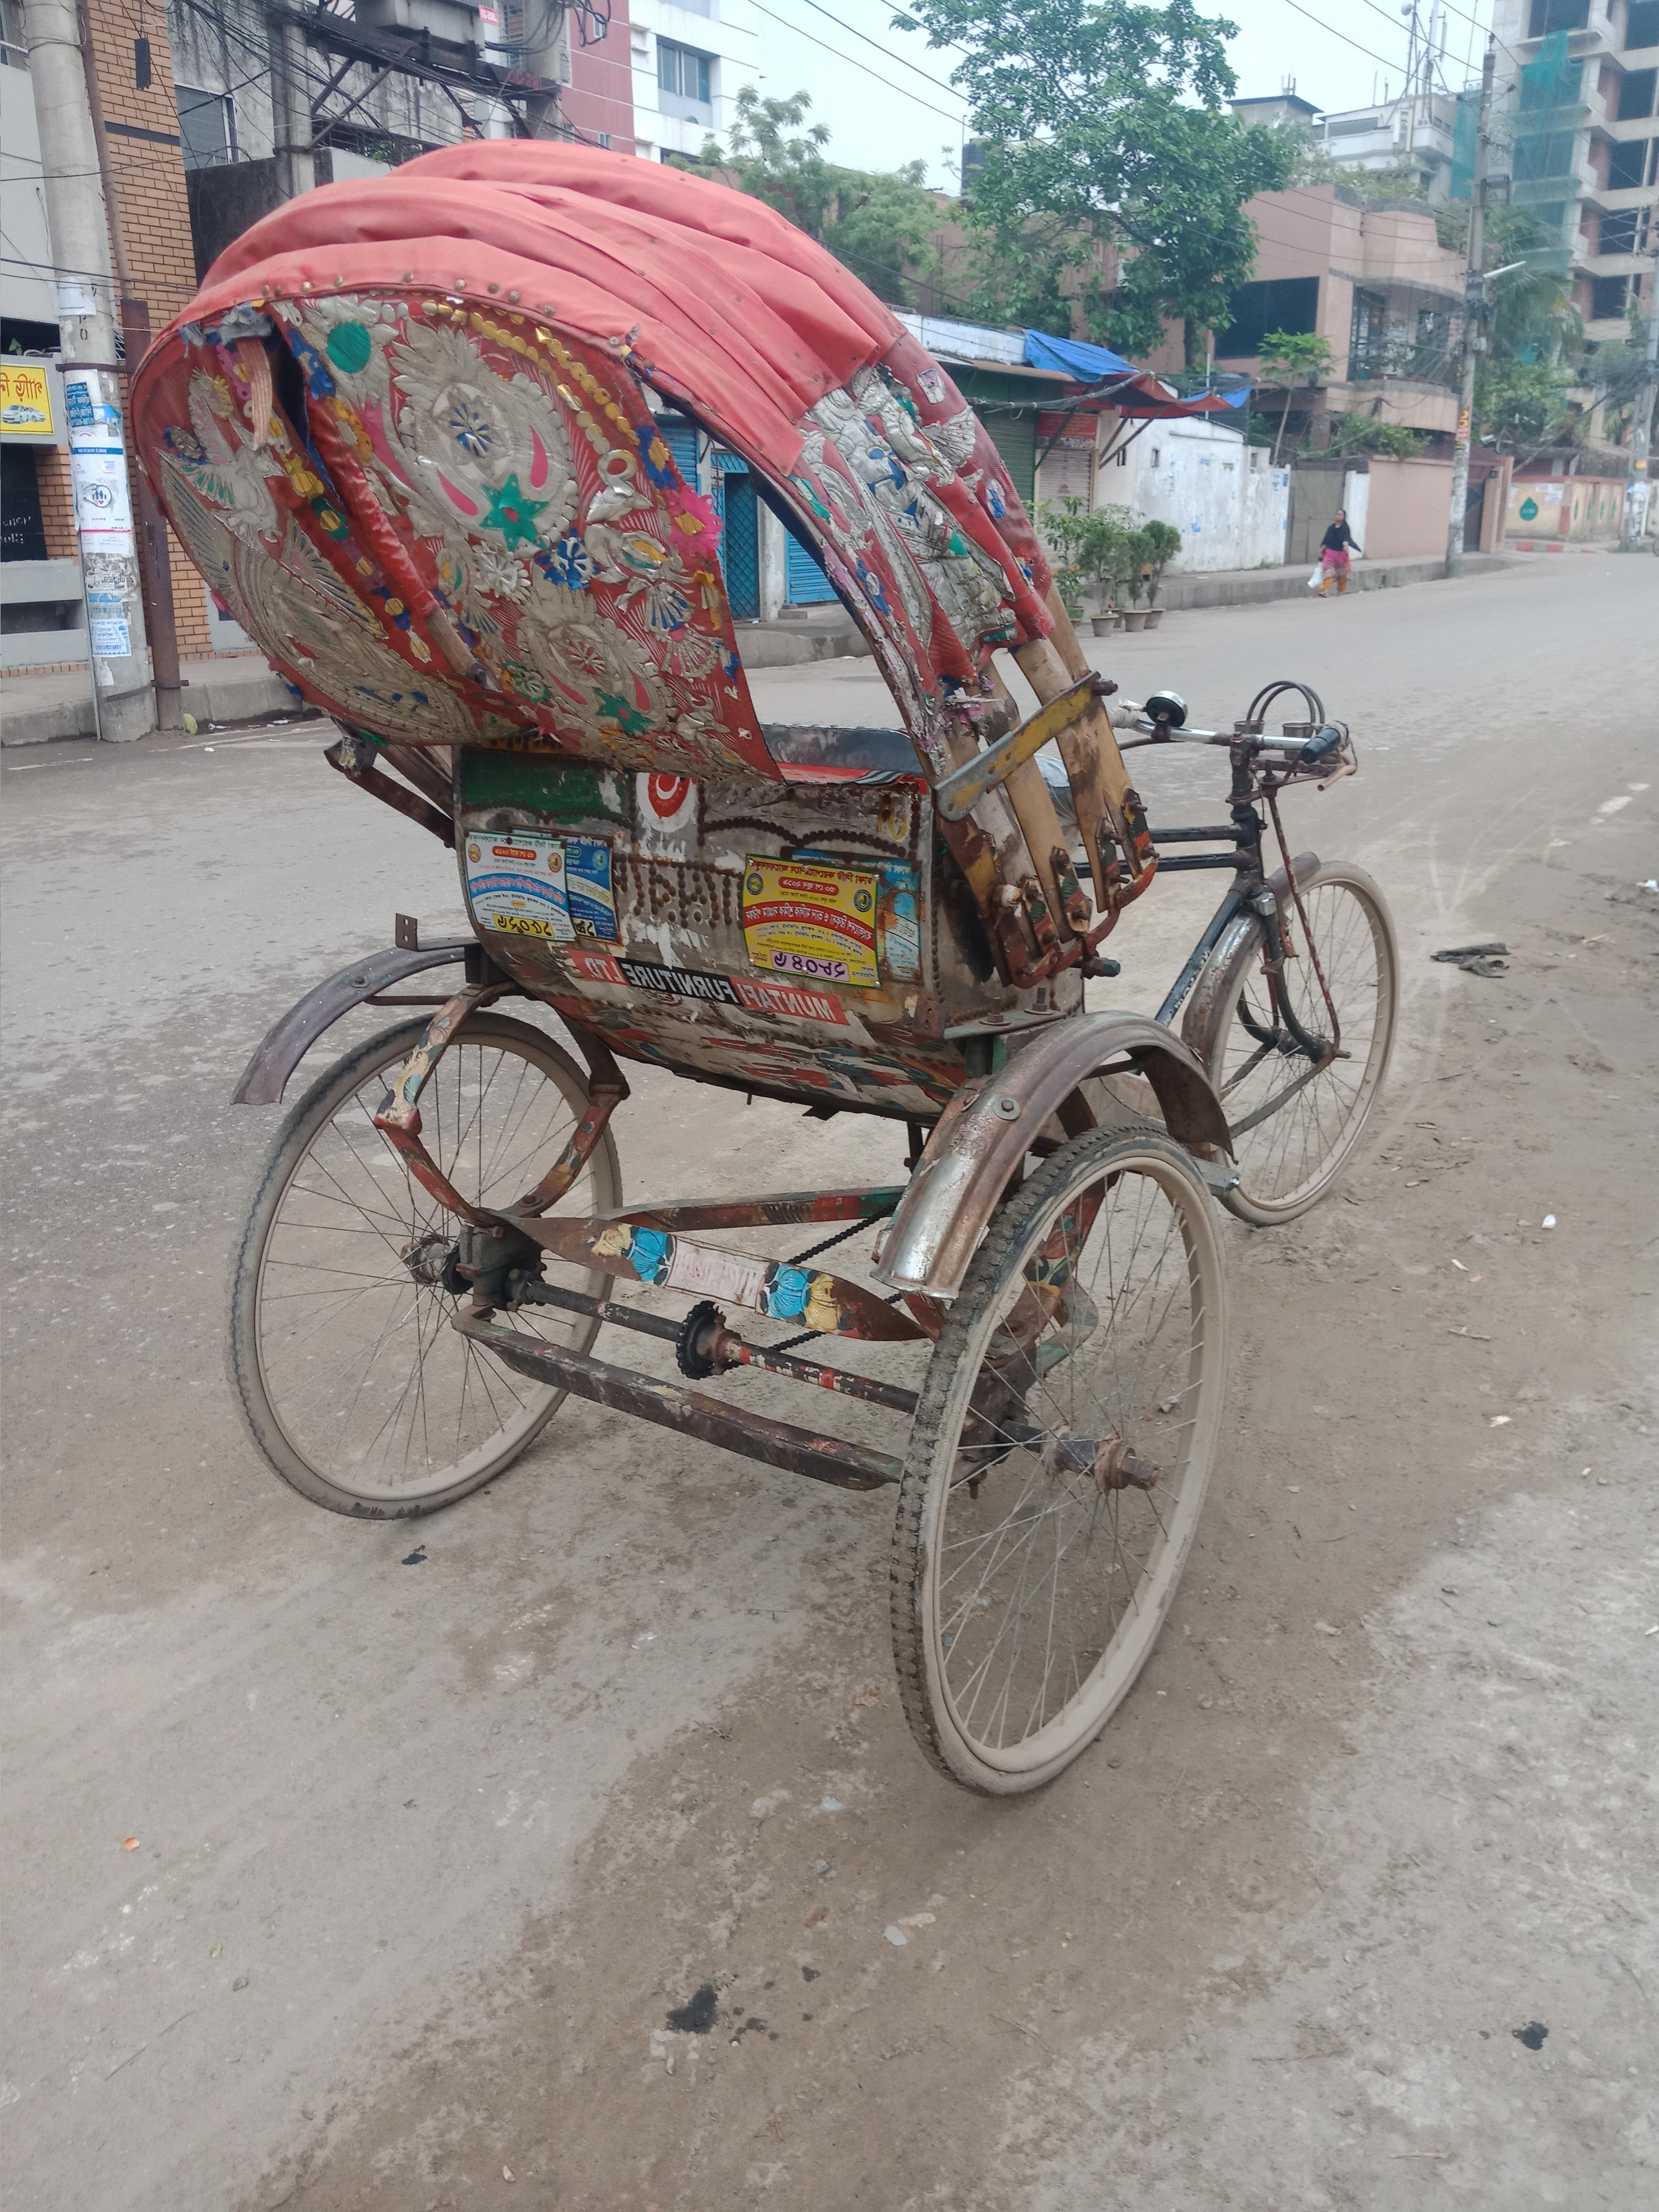Rickshaw: (77, 146, 1434, 1822)
